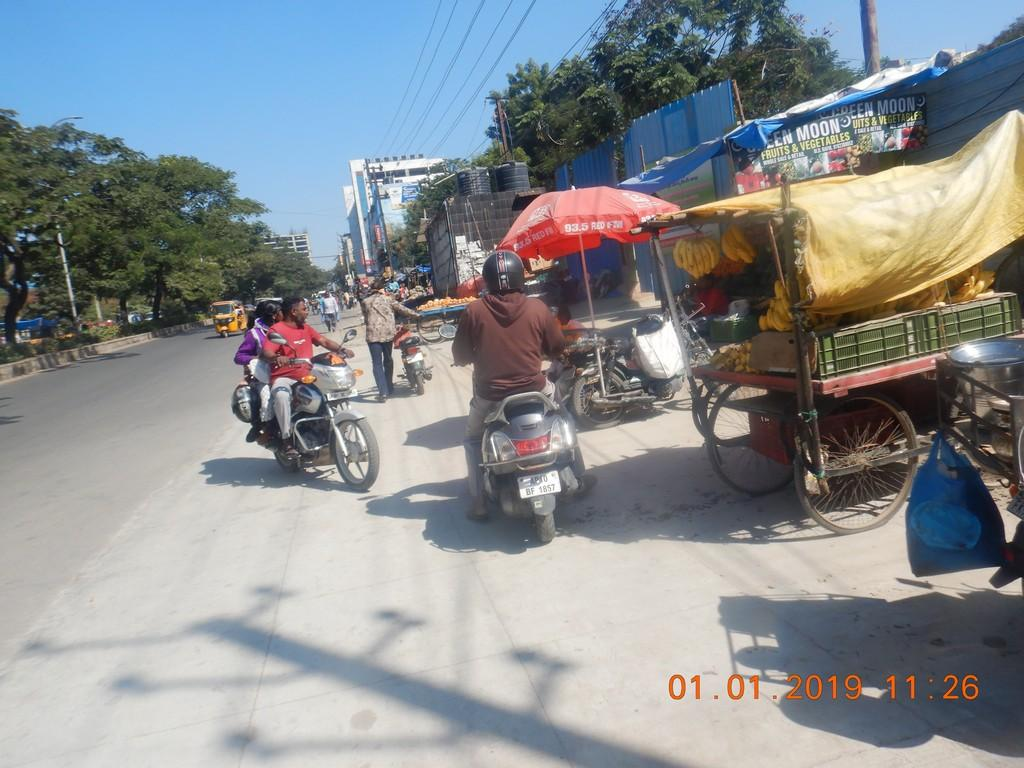plate: (520, 468, 560, 497)
